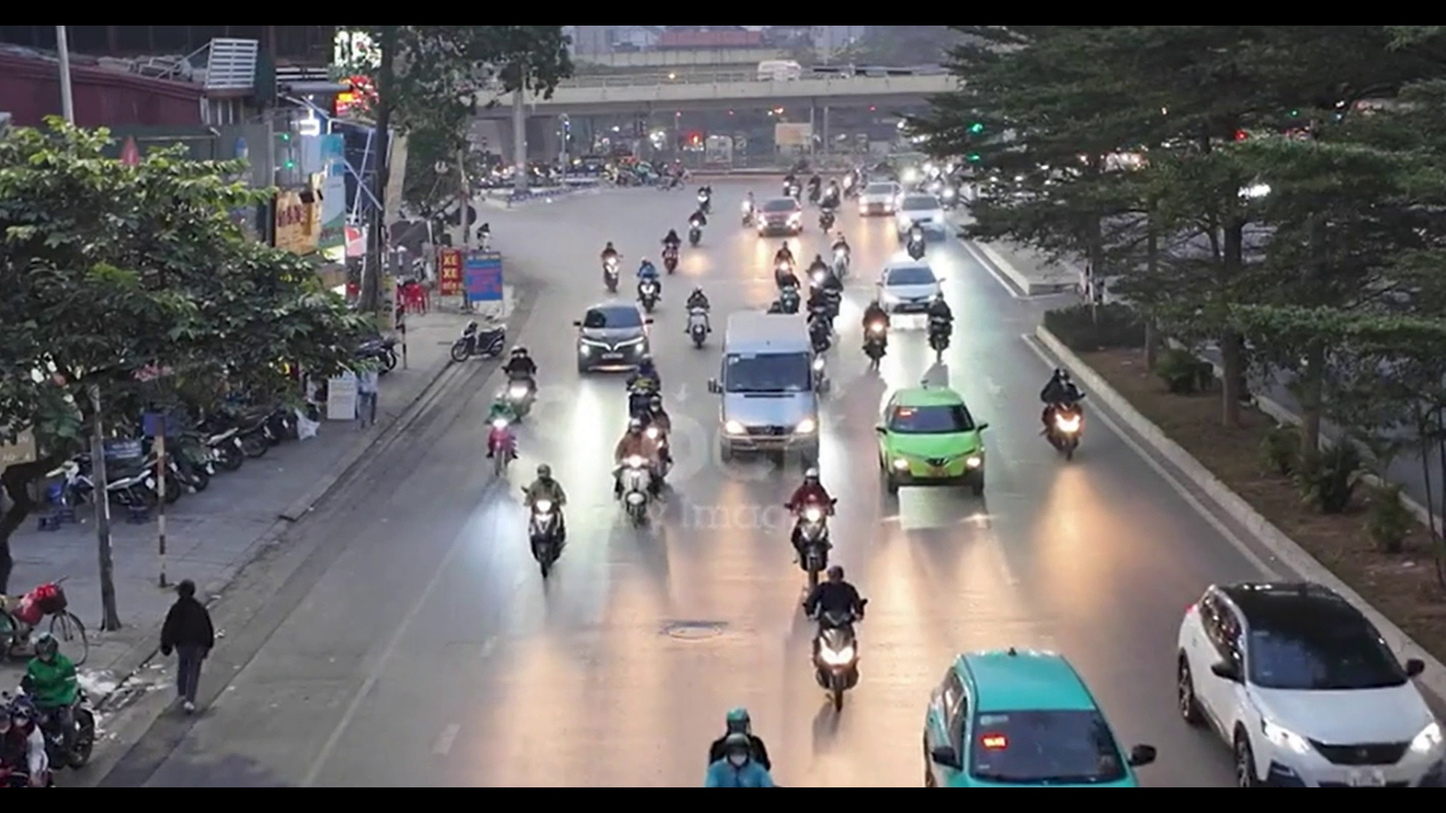car: (1174, 578, 1445, 787), (920, 646, 1144, 784), (711, 327, 820, 465), (875, 383, 988, 493), (876, 260, 952, 341), (574, 299, 649, 376), (755, 201, 803, 237)
motorcycle: (1040, 383, 1083, 460), (526, 501, 566, 579)
